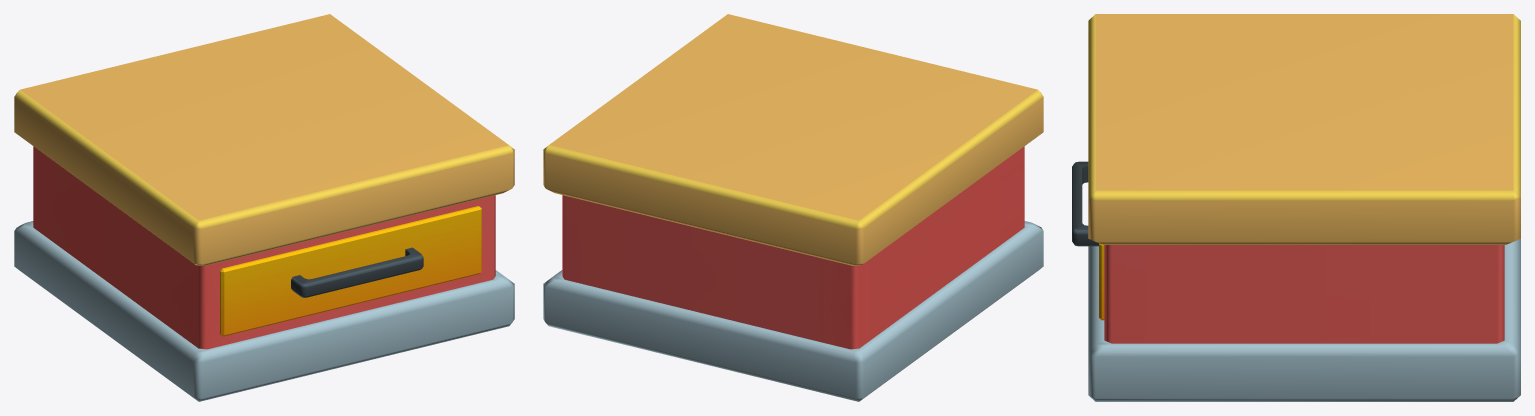
The model's file is Decor_Banlambep_A.fbx.
The picture shows the model from 3 angles, left to right: view 1: azimuth 30°, elevation 25°; view 2: azimuth 150°, elevation 25°; view 3: azimuth 270°, elevation 25°; orthographic projection. The views are drawn at different scales.
Parts seen in each view (by area): view 1: Decor_Banlambep_A; view 2: Decor_Banlambep_A; view 3: Decor_Banlambep_A.
Part boxes in pixels (<box>): Decor_Banlambep_A: <box>14,14,514,401</box>; Decor_Banlambep_A: <box>543,14,1043,401</box>; Decor_Banlambep_A: <box>1072,14,1520,401</box>.
Bounding box in the file's own units: 139 × 74.96 × 144.
